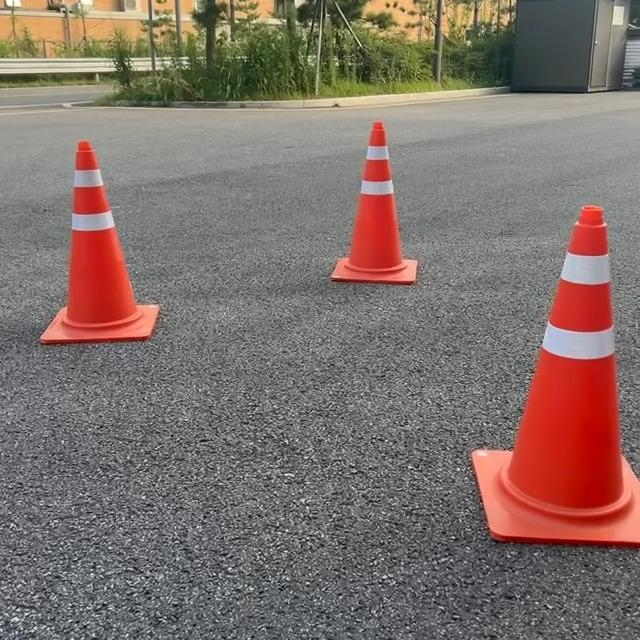fallen_object: (466, 202, 640, 582), (47, 129, 178, 454), (292, 99, 410, 266)
